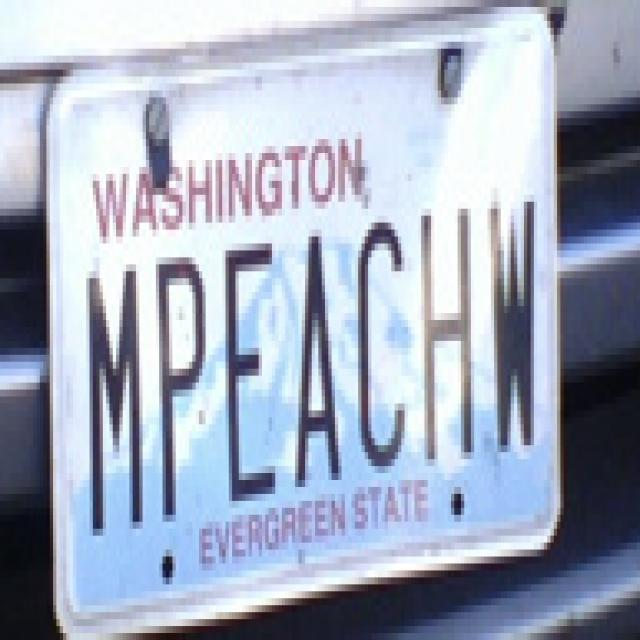A: (286, 234, 344, 487)
C: (354, 205, 411, 476)
E: (221, 233, 283, 510)
H: (418, 191, 478, 465)
M: (83, 244, 149, 546)
P: (153, 231, 211, 531)
W: (482, 185, 543, 457)
